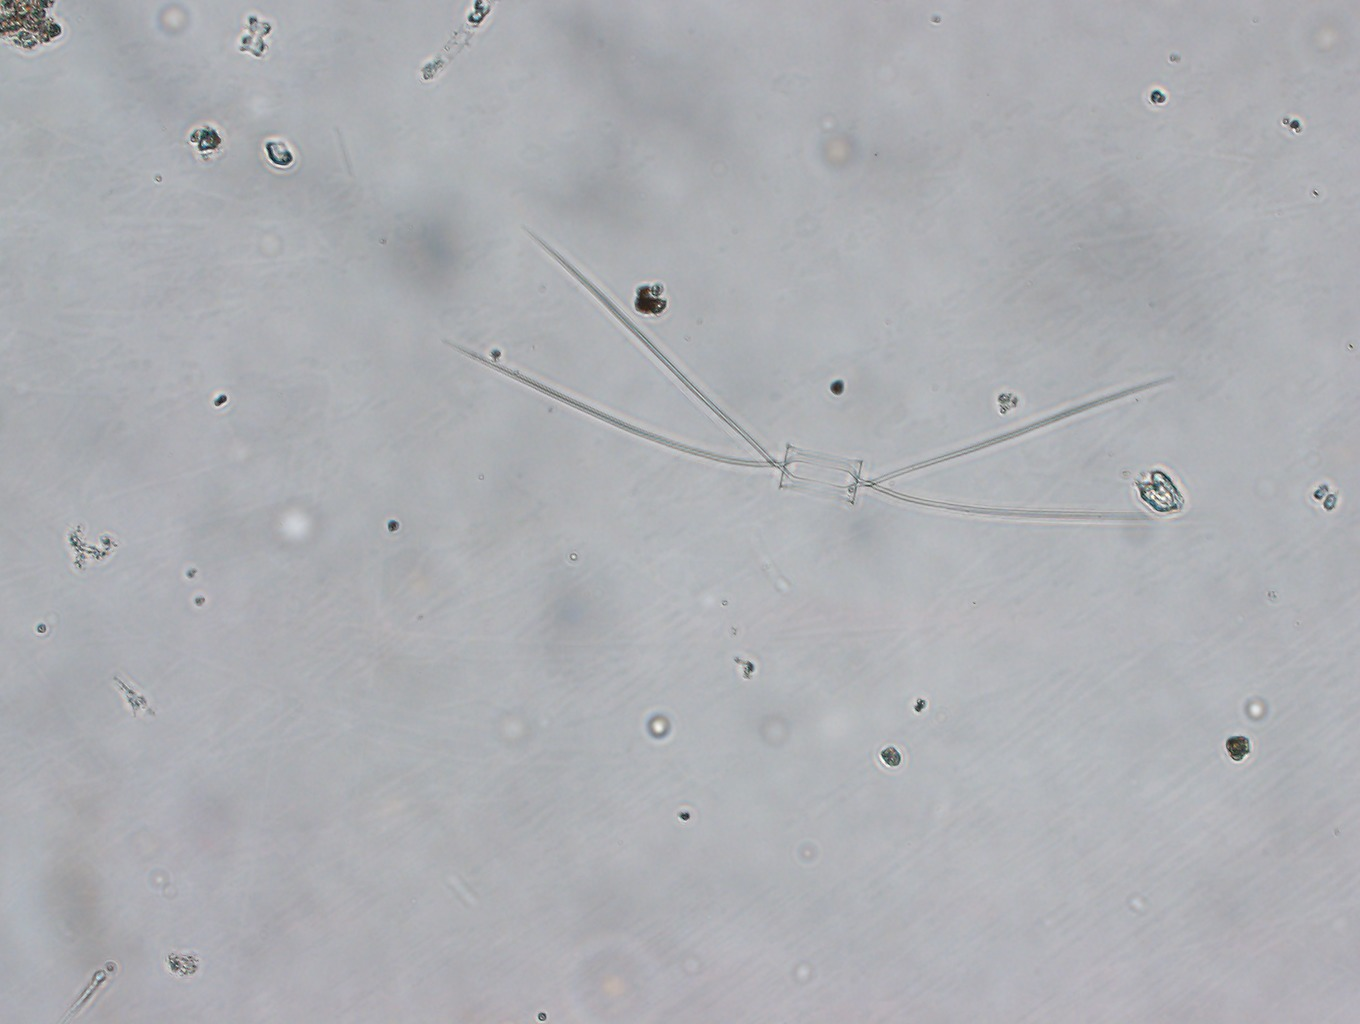chaetoceros: (436, 210, 1178, 542)
